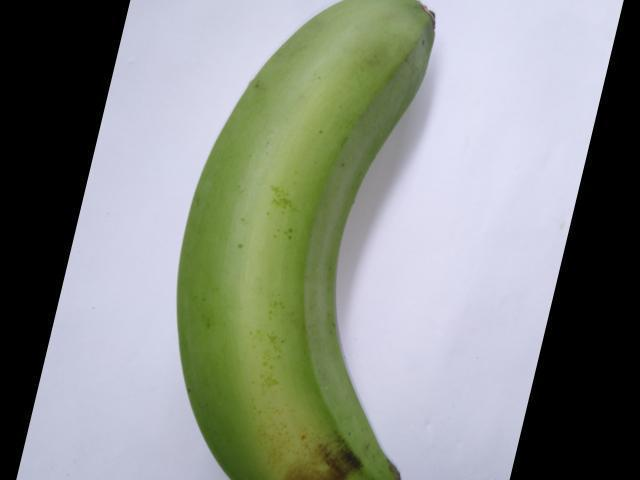freshunripe: (159, 0, 462, 479)
